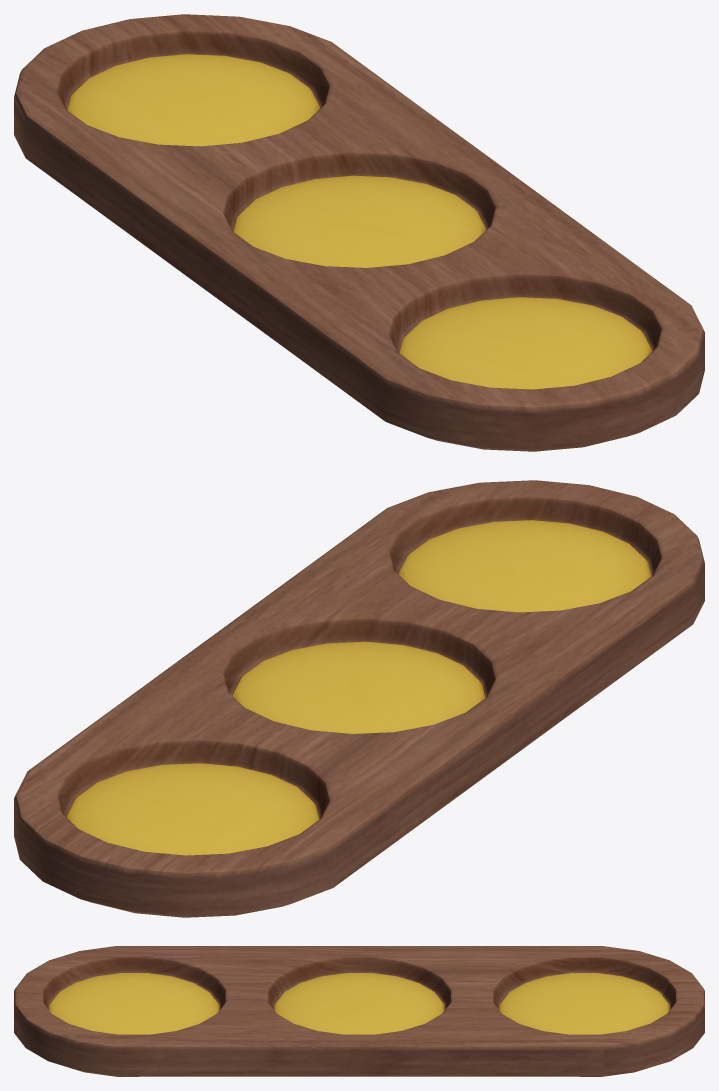
Rendered from YutNori_PieceBoxYellow.fbx.
3 views of the same model, one above another, from view 1: azimuth 30°, elevation 25°; view 2: azimuth 150°, elevation 25°; view 3: azimuth 270°, elevation 25° (orthographic). The views are drawn at different scales.
Parts seen in each view (by area): view 1: YutNori_PieceBoxYellow; view 2: YutNori_PieceBoxYellow; view 3: YutNori_PieceBoxYellow.
Boxes of the visible parts, bbox=[...] form: YutNori_PieceBoxYellow: bbox=[14, 14, 704, 451]; YutNori_PieceBoxYellow: bbox=[14, 480, 704, 917]; YutNori_PieceBoxYellow: bbox=[14, 946, 704, 1076].
Size of the model in its own units: 3.98 by 0.6524 by 11.43.
